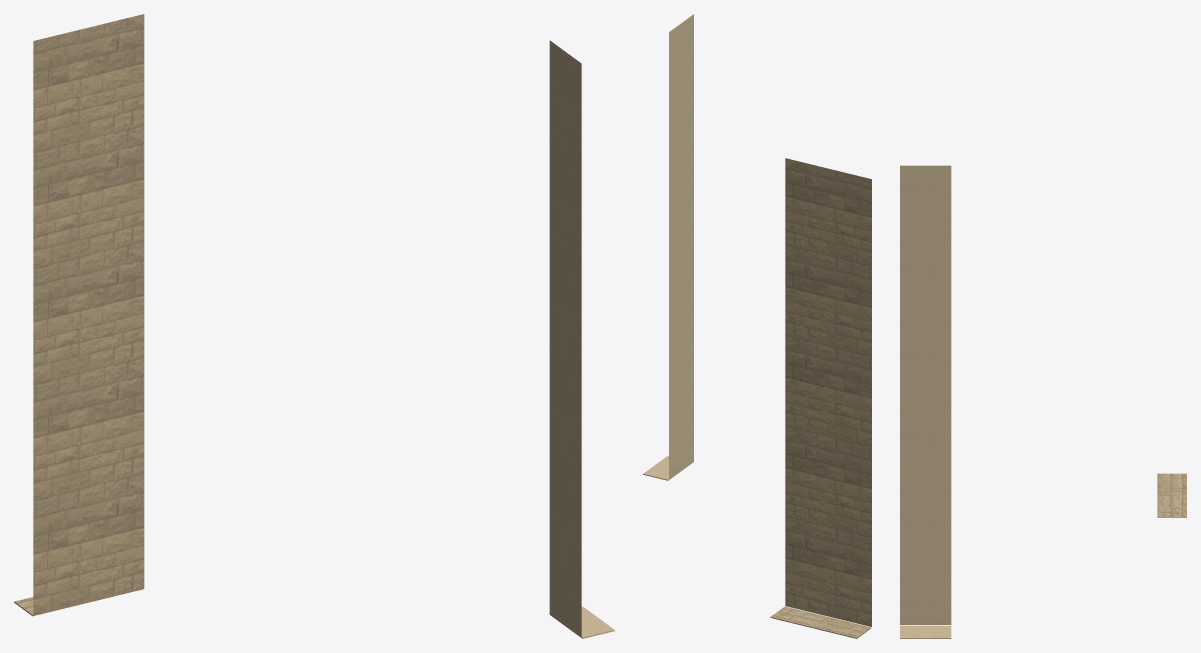
The model's file is north-court-receivers-link-north-east.glb.
3 renders of one model, left to right at view 1: azimuth 30°, elevation 25°; view 2: azimuth 150°, elevation 25°; view 3: azimuth 270°, elevation 25°, orthographic. The views are drawn at different scales.
Parts seen in each view (by area): view 1: bz06_dressed_sandstone-cast, bz06_cream_plaster-cast; view 2: bz06_dressed_sandstone-cast, bz06_cream_plaster-cast; view 3: bz06_cream_plaster-cast, bz06_dressed_sandstone-cast.
Boxes of the visible parts, x1,y1,x2,y2 form: bz06_dressed_sandstone-cast: [14, 14, 144, 616]; bz06_cream_plaster-cast: [549, 40, 614, 638]; bz06_dressed_sandstone-cast: [770, 158, 871, 638]; bz06_cream_plaster-cast: [643, 14, 693, 480]; bz06_cream_plaster-cast: [900, 165, 951, 638]; bz06_dressed_sandstone-cast: [1157, 473, 1186, 517].
Size of the model in its own units: 7.6 by 9.92 by 5.6.
Materials: 2 (2 with a texture image).
